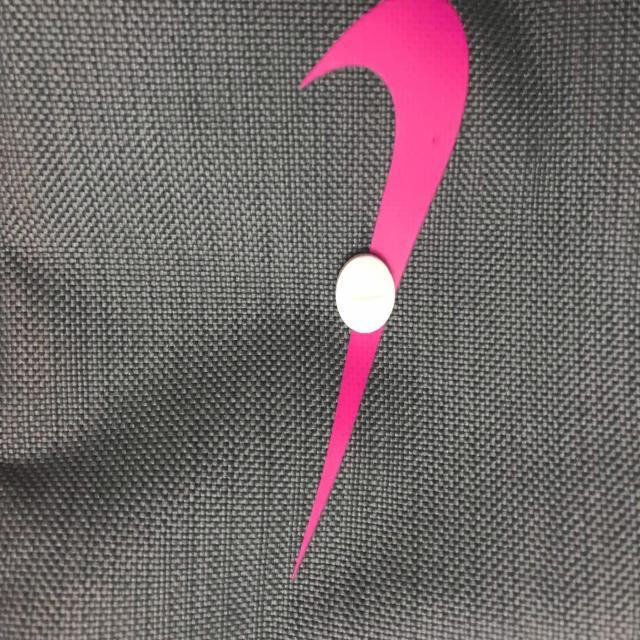pill: (333, 252, 399, 335)
